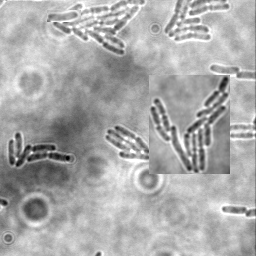Dividing: (221, 204, 248, 215)
Microcolony: (149, 75, 230, 174), (51, 1, 147, 56), (162, 1, 231, 44), (8, 130, 72, 167), (106, 124, 149, 160), (47, 10, 81, 22), (208, 63, 240, 74)
